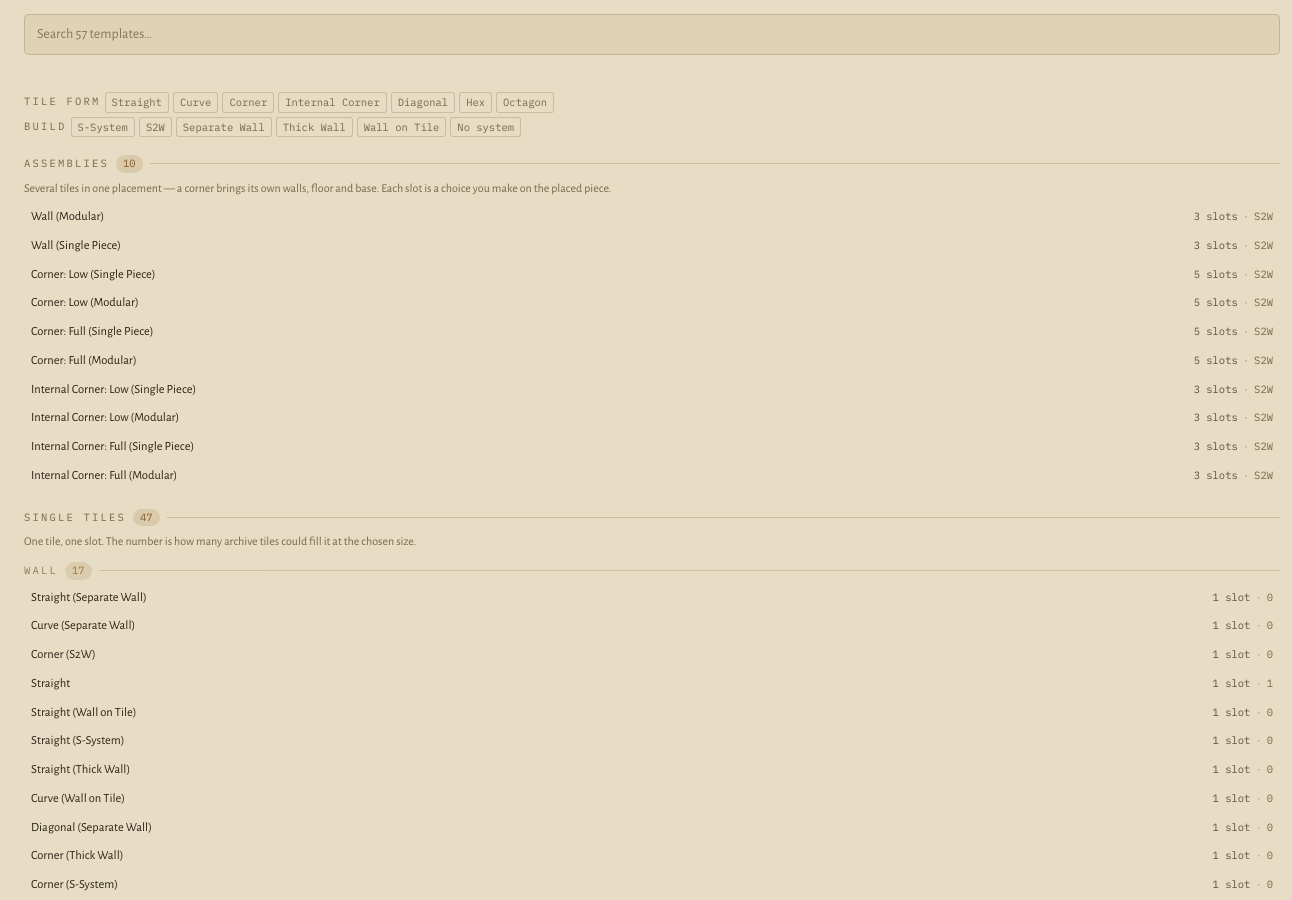
Scenario: the palette › shows slots and a build system on an assembly, and offers a corner no size
Step 1. Click the button "Corner: Low (Single Piece) 5 slots S2W" → (93, 274), box [24,262,1280,287]
(page scrolled)
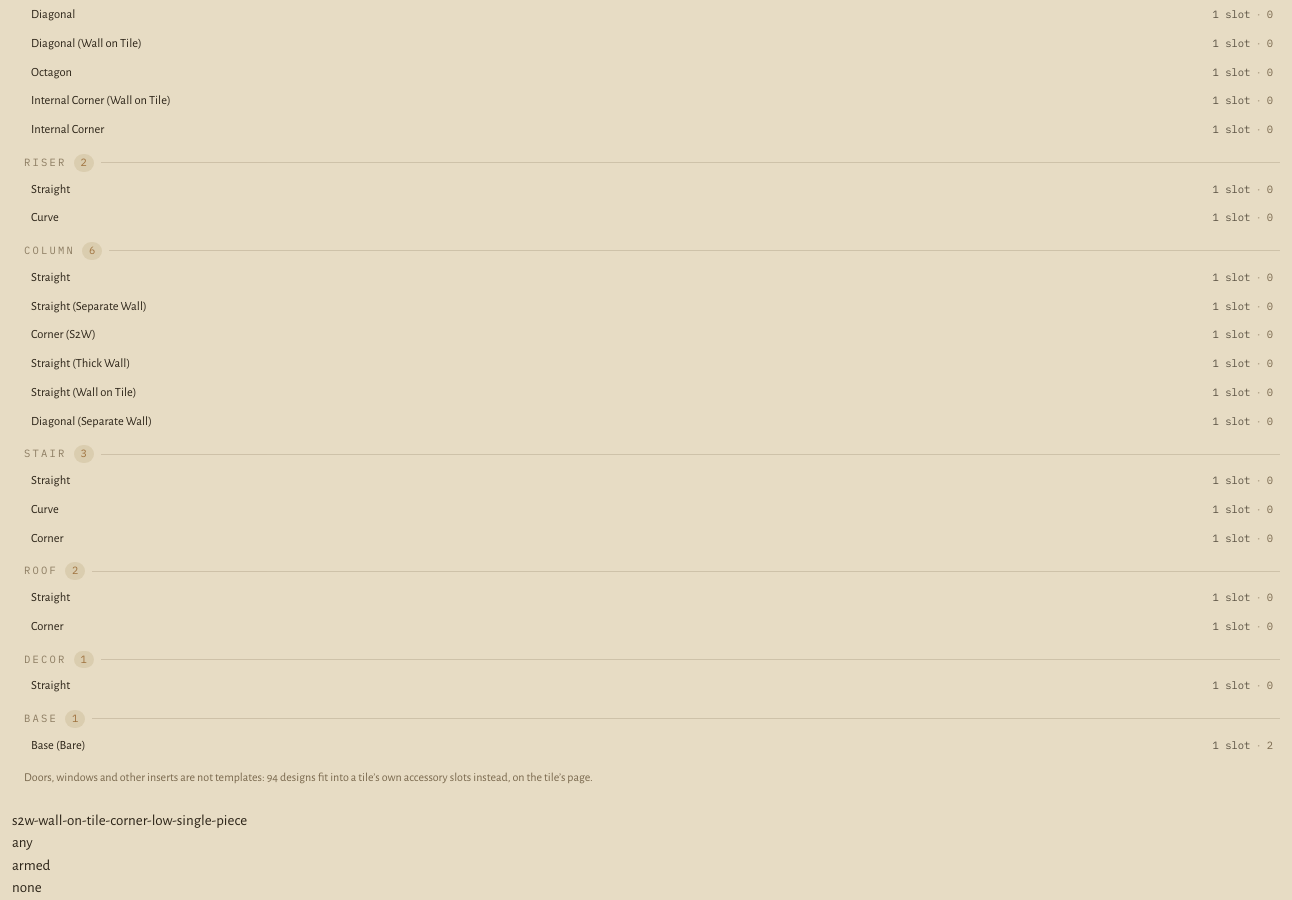
Now the text with test id "selected-template" reads "s2w-wall-on-tile-corner-low-single-piece", box [12,813,247,828]
